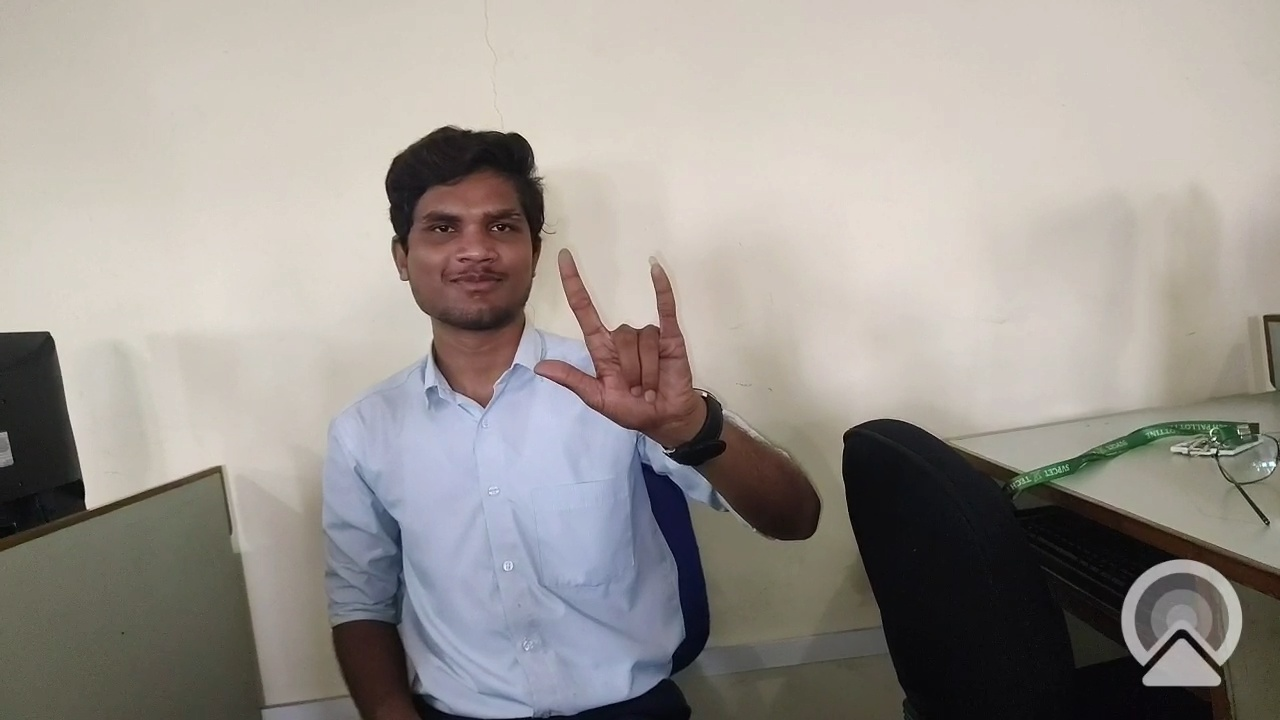I love you: (535, 244, 701, 442)
